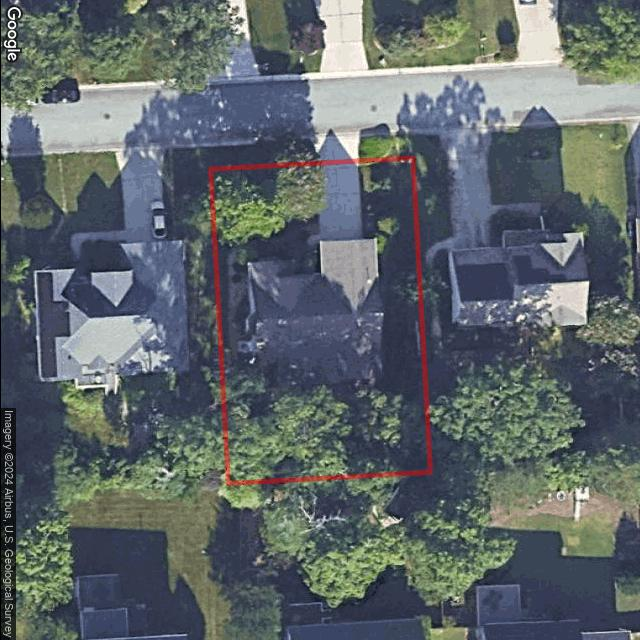Driveway: (318, 162, 361, 240)
Extra-Driveway: (310, 138, 359, 163)
Extra-Lawn: (207, 138, 316, 169), (358, 136, 411, 160)
House: (247, 238, 384, 391)
Lawn: (210, 159, 429, 483)
Other: (227, 243, 258, 309)
Sidewalk: (305, 235, 319, 274)
